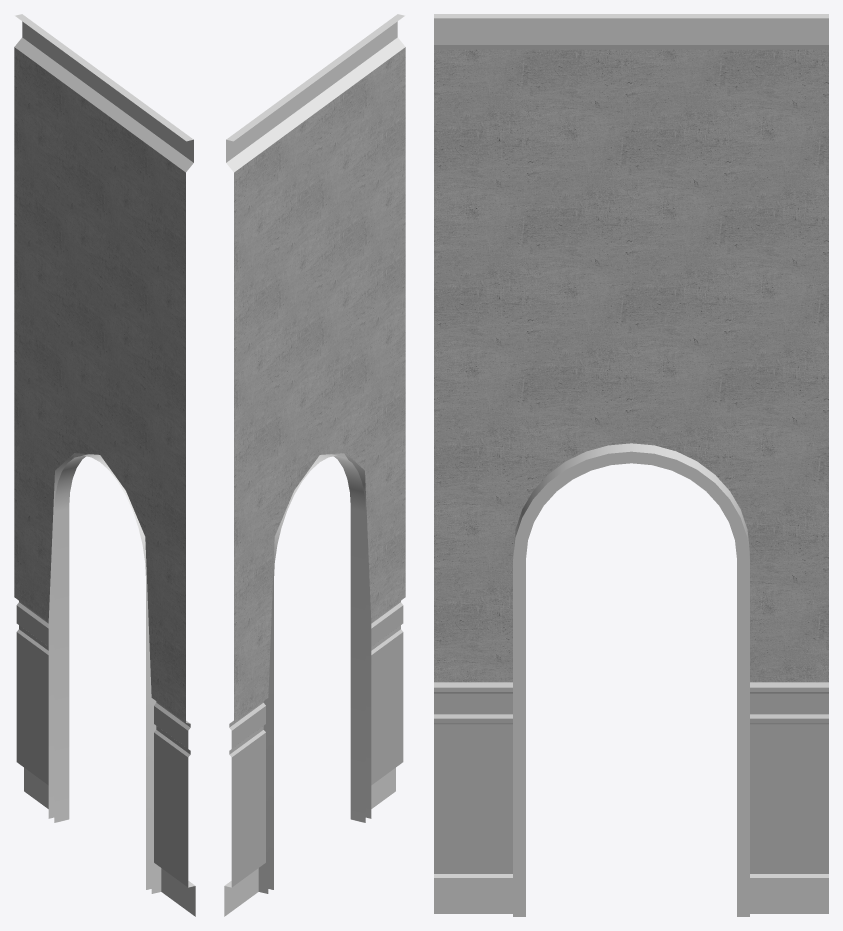
The model's file is C_Doorway.fbx.
The picture shows the model from 3 angles, left to right: view 1: azimuth 30°, elevation 25°; view 2: azimuth 150°, elevation 25°; view 3: azimuth 270°, elevation 25°; orthographic projection. The views are drawn at different scales.
Parts seen in each view (by area): view 1: C_Doorway; view 2: C_Doorway; view 3: C_Doorway.
Part boxes in pixels (x1,y1,x2,y2): C_Doorway: (14,14,195,916); C_Doorway: (224,14,405,916); C_Doorway: (434,14,828,916).
Bounding box in the file's own units: 20 × 1000 × 400.
